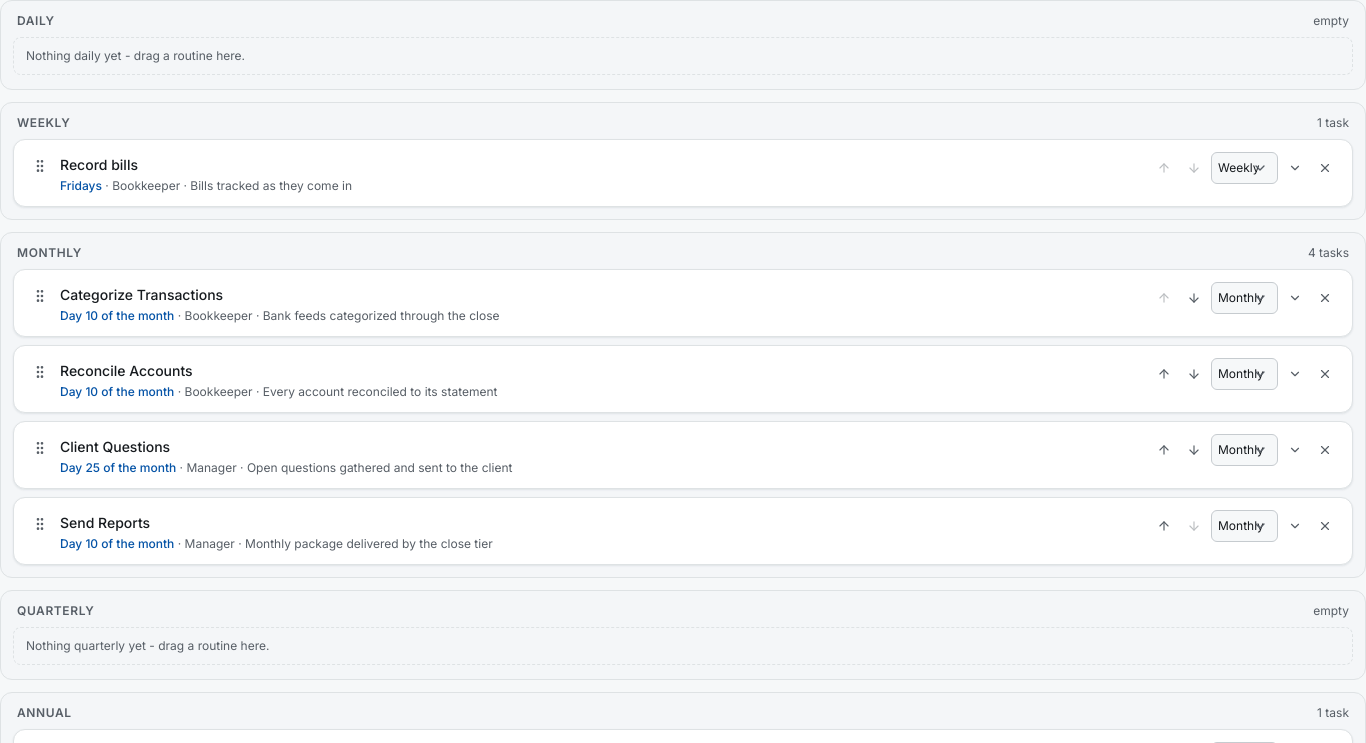
Test: L2/H5: task_click_drops_qualifying_card (10_06 00:43:56) › a standard routine explains itself instead of jumping
The width and height of the screenshot is (1366, 743).
Click the button with test id "qualifier-toggle-reconcile_accounts" at (126, 371), box [60,361,193,381]
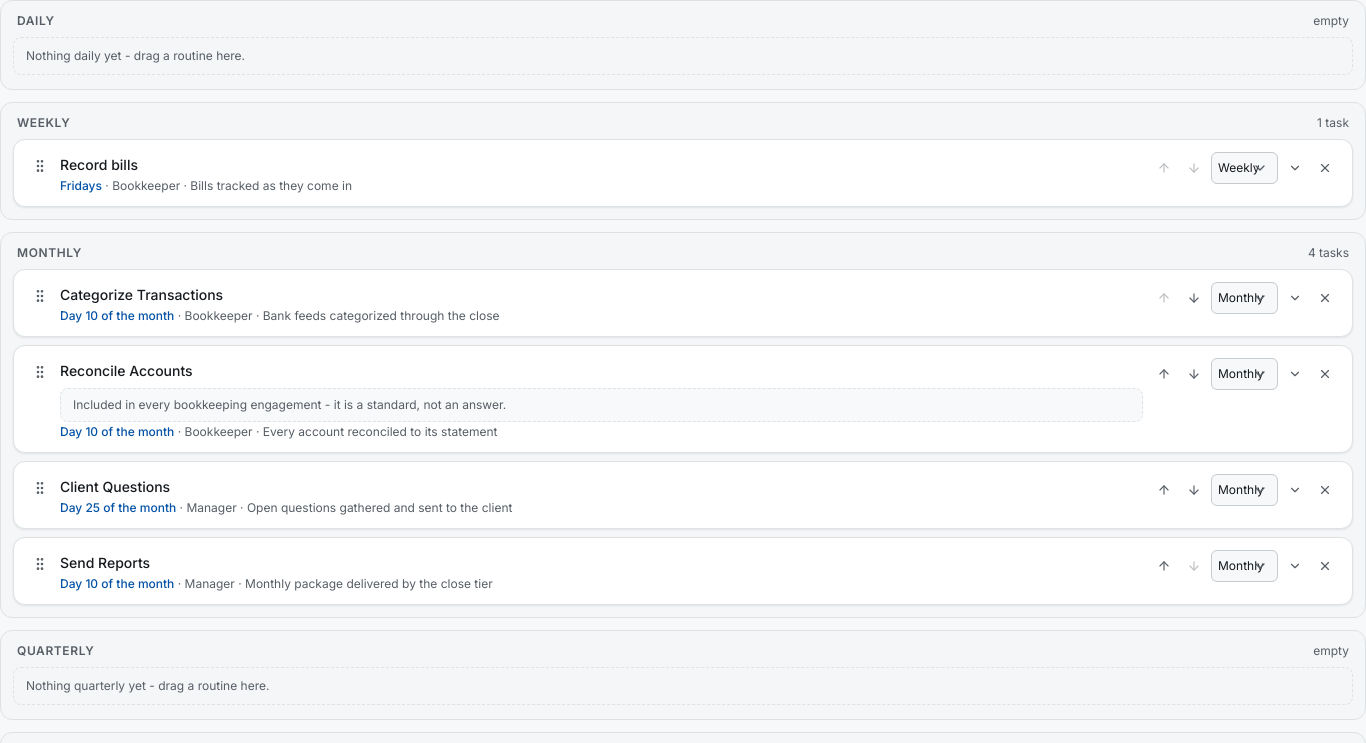
Now the text with test id "qualifier-reconcile_accounts" shows "Included in every bookkeeping engagement", box [73,397,506,412]
